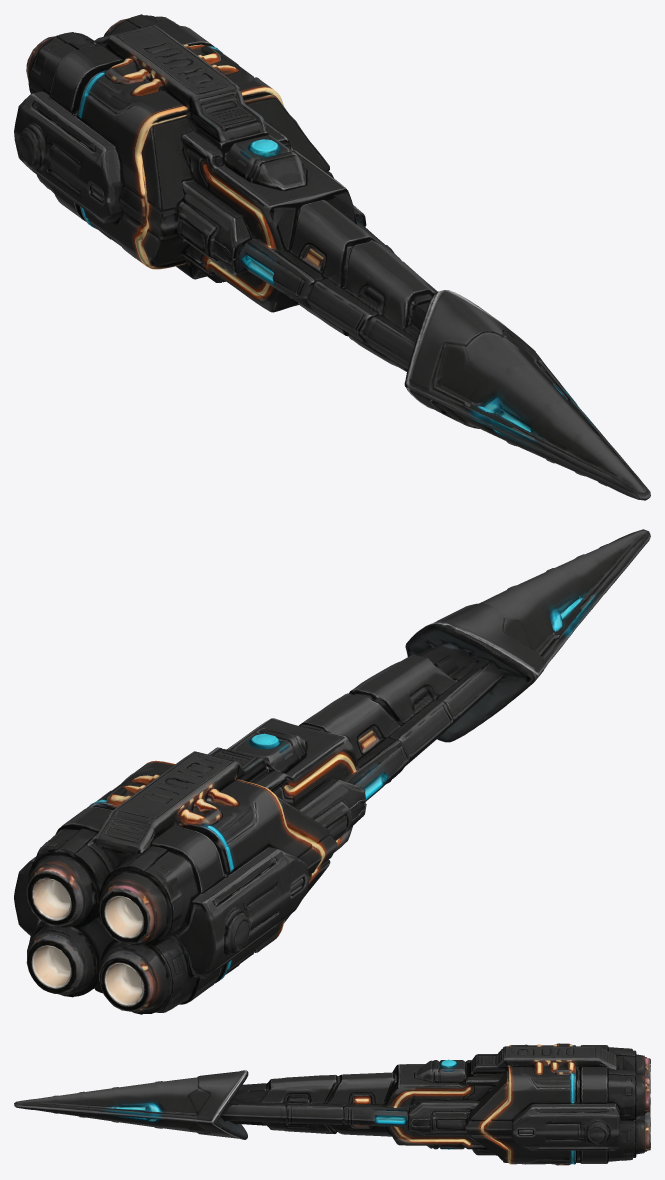
Rendered from Enemigo7.glb.
3 views of the same model, one above another, from view 1: azimuth 30°, elevation 25°; view 2: azimuth 150°, elevation 25°; view 3: azimuth 270°, elevation 25° (orthographic). The views are drawn at different scales.
Visible parts, largest first — view 1: tripo_node_ba6477ab-ca62-4906-b2bb-6602c6f36f32; view 2: tripo_node_ba6477ab-ca62-4906-b2bb-6602c6f36f32; view 3: tripo_node_ba6477ab-ca62-4906-b2bb-6602c6f36f32.
Part boxes in pixels (x1=…): tripo_node_ba6477ab-ca62-4906-b2bb-6602c6f36f32: x1=14, y1=14, x2=650, y2=500; tripo_node_ba6477ab-ca62-4906-b2bb-6602c6f36f32: x1=14, y1=529, x2=650, y2=1014; tripo_node_ba6477ab-ca62-4906-b2bb-6602c6f36f32: x1=14, y1=1043, x2=650, y2=1165.
Size of the model in its own units: 0.2218 by 0.1801 by 0.9824.
1 material, 1 textured.
